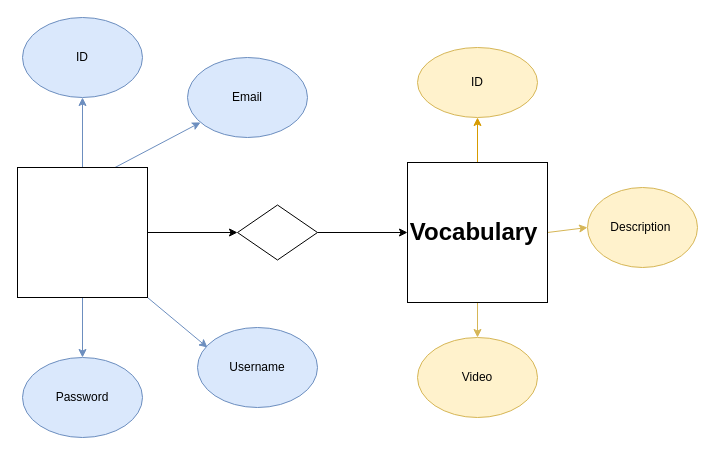
The diagram is 715 pixels wide and 455 high, and some of its shapes have lost their labels. The shapes that lost their labels are listed below. From the top down, each one's centre as x and y in pixels, then its label:
[82,232]: User
[277,232]: has
